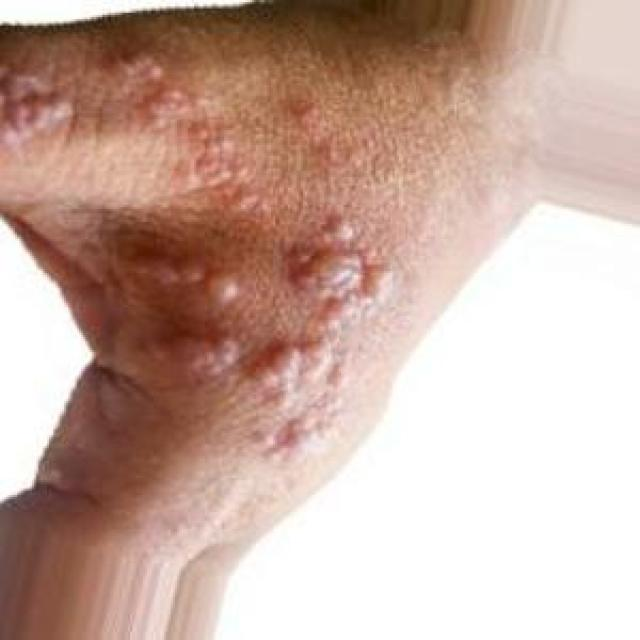Shingles: (255, 215, 399, 466), (111, 42, 259, 207), (115, 246, 242, 308), (0, 64, 76, 145), (138, 330, 238, 384)
